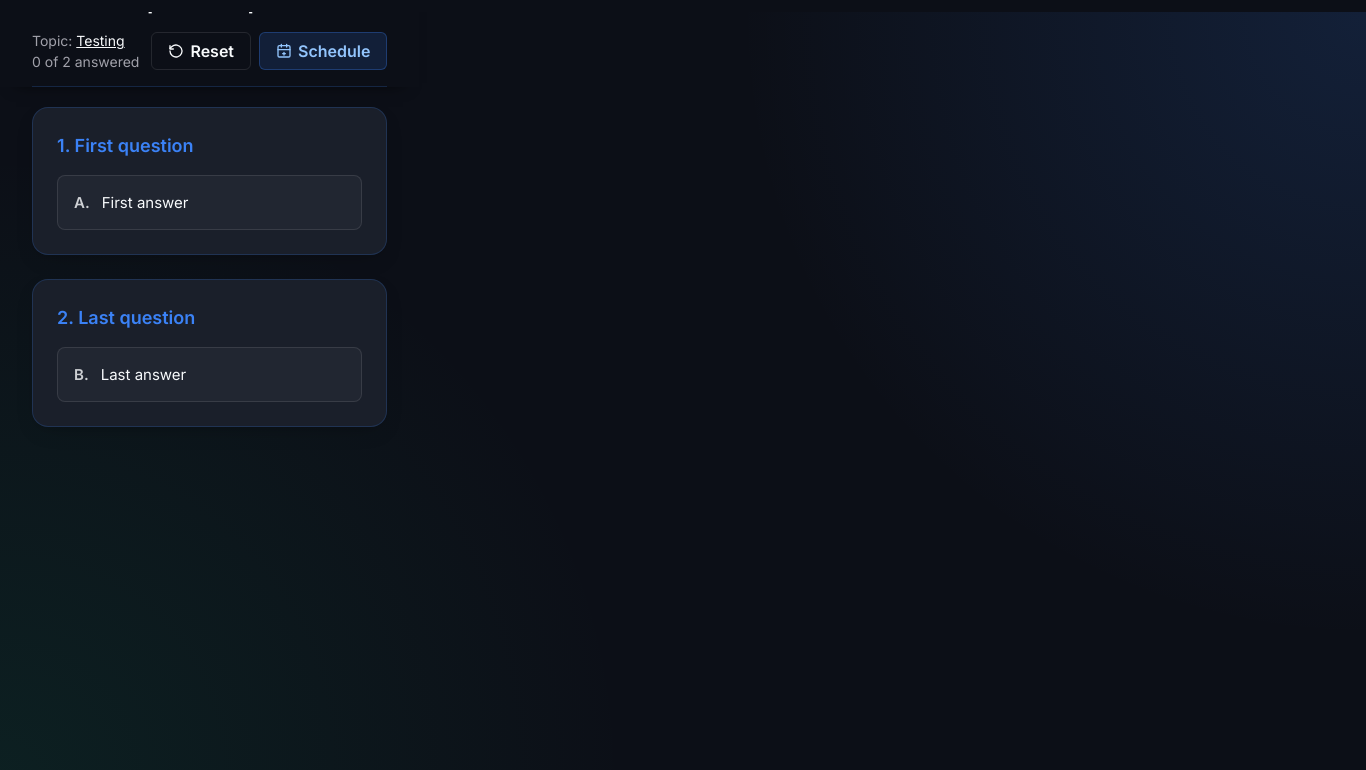
Scenario: QuizViewer › completes when the last question is answered before earlier questions
The image size is (1366, 770).
What coordinates should you click on to do the following:
click the text "Last answer"
I would click on:
 (143, 374)
Its box is [101,364,186,385].
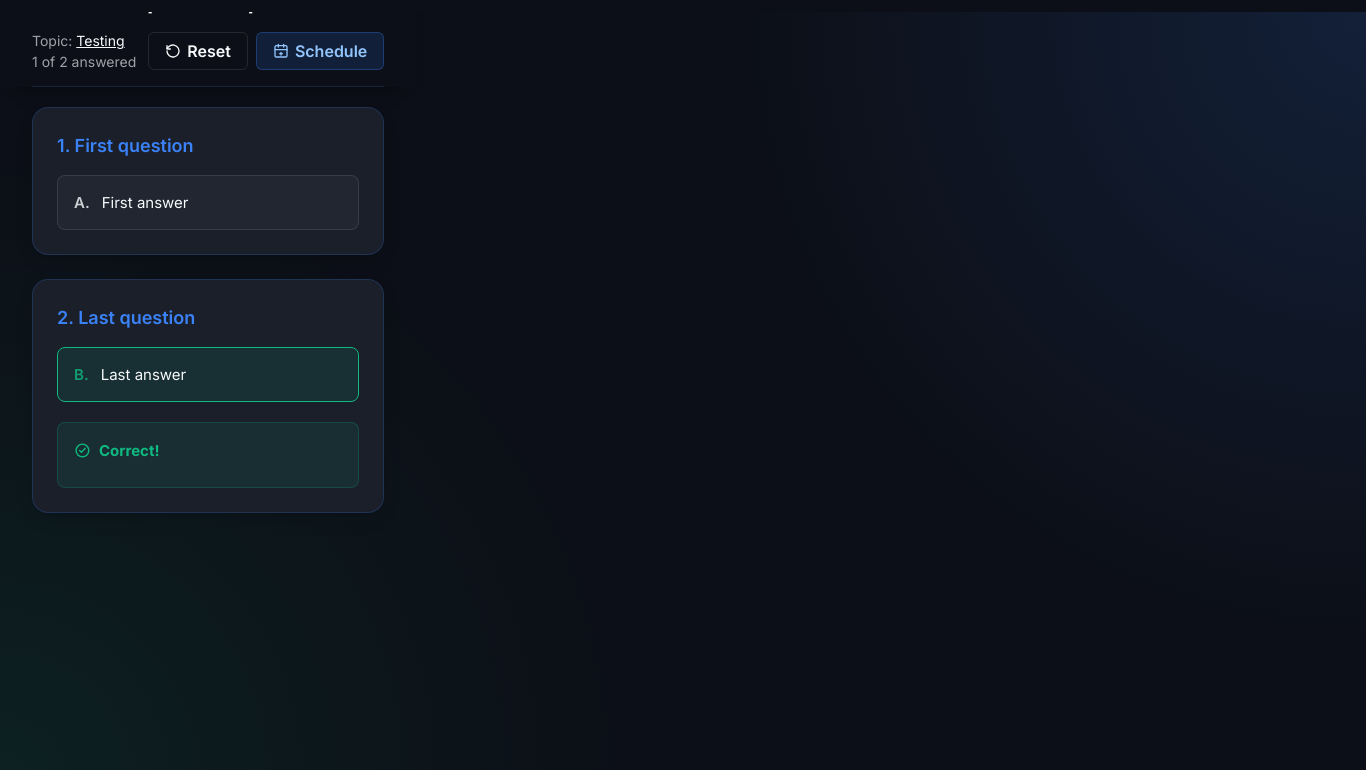
expect the text "Quiz Review" is not shown: met
expect the text "1 of 2 answered" is shown: met, box [32,53,136,70]
What coordinates should you click on to do the following:
click the text "First answer"
I would click on:
 (145, 202)
Its box is [102,192,188,213].
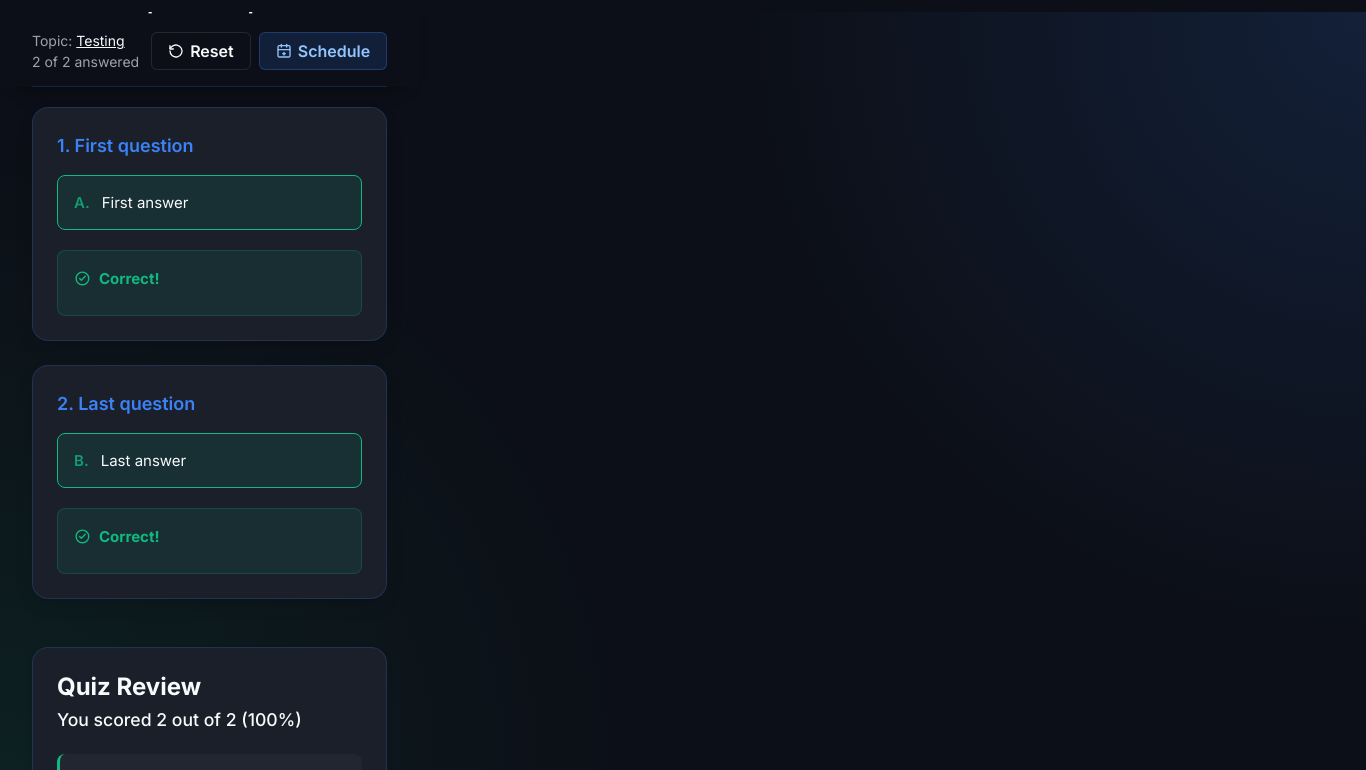
expect the text "2 of 2 answered" is shown: met, box [32,53,139,70]
expect the heading "Quiz Review" is shown: met, box [57,672,201,701]
expect the text "You scored 2 out of 2 (100%)" is shown: met, box [57,709,302,730]
